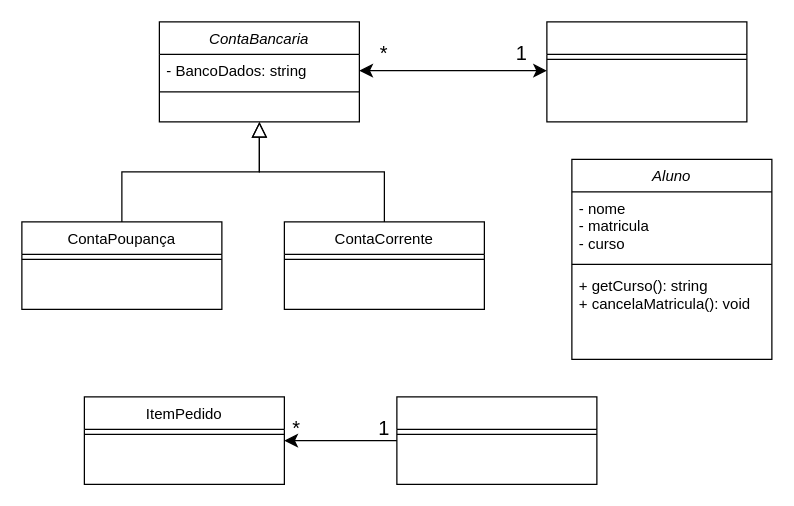
Some shapes in this 794 by 506 pixel diagram are drawn without their labels. The centre of each missing label's shape, as x and y in pixels:
Cliente: the point at 646,71
Produto: the point at 496,440
